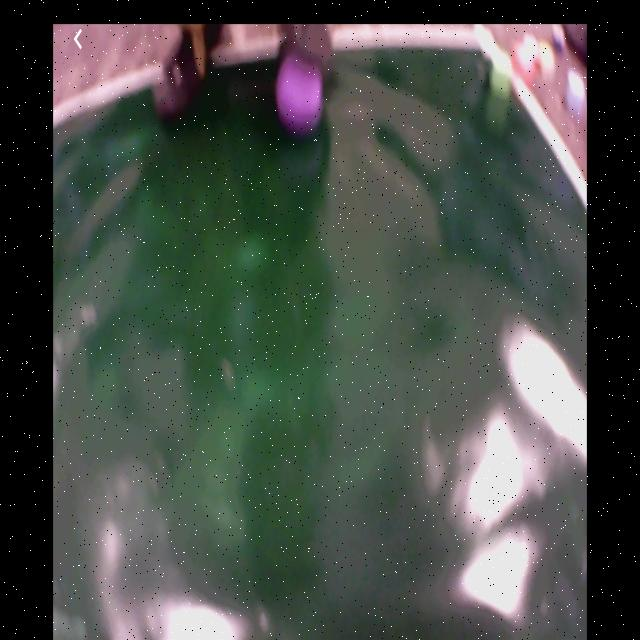ball: (277, 55, 326, 132)
